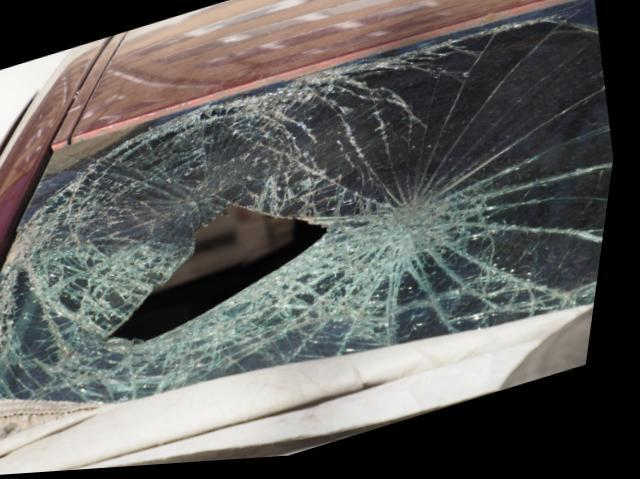glass shatter: (0, 3, 619, 404)
